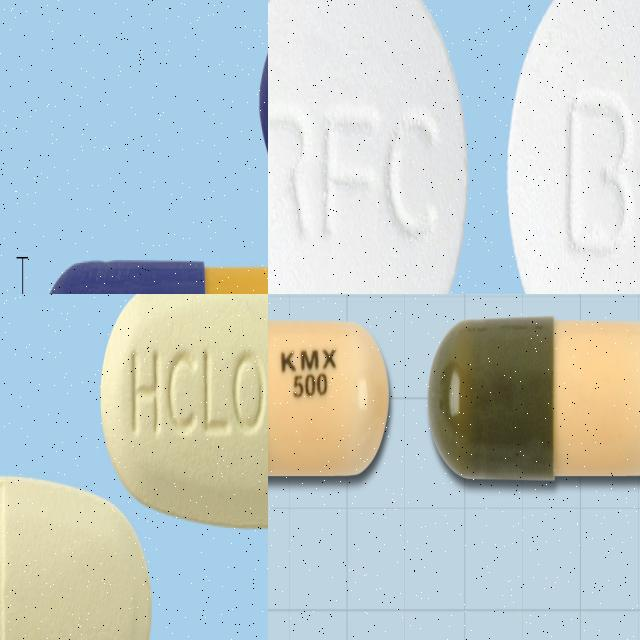Hericlo: (99, 294, 268, 531), (0, 472, 155, 640)
Kymoxin Cap-500mg: (428, 318, 640, 482), (268, 317, 389, 482)
Roxinmycin Tab: (268, 0, 467, 294), (507, 0, 640, 294)
